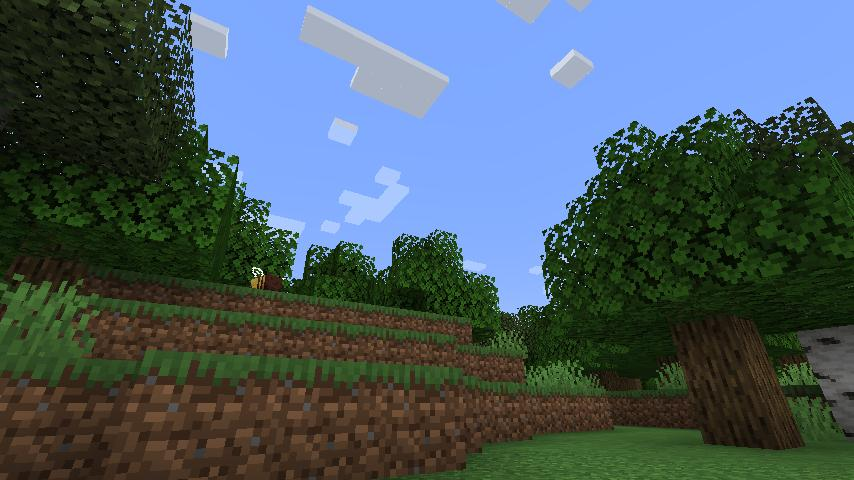bee: (248, 266, 286, 293)
